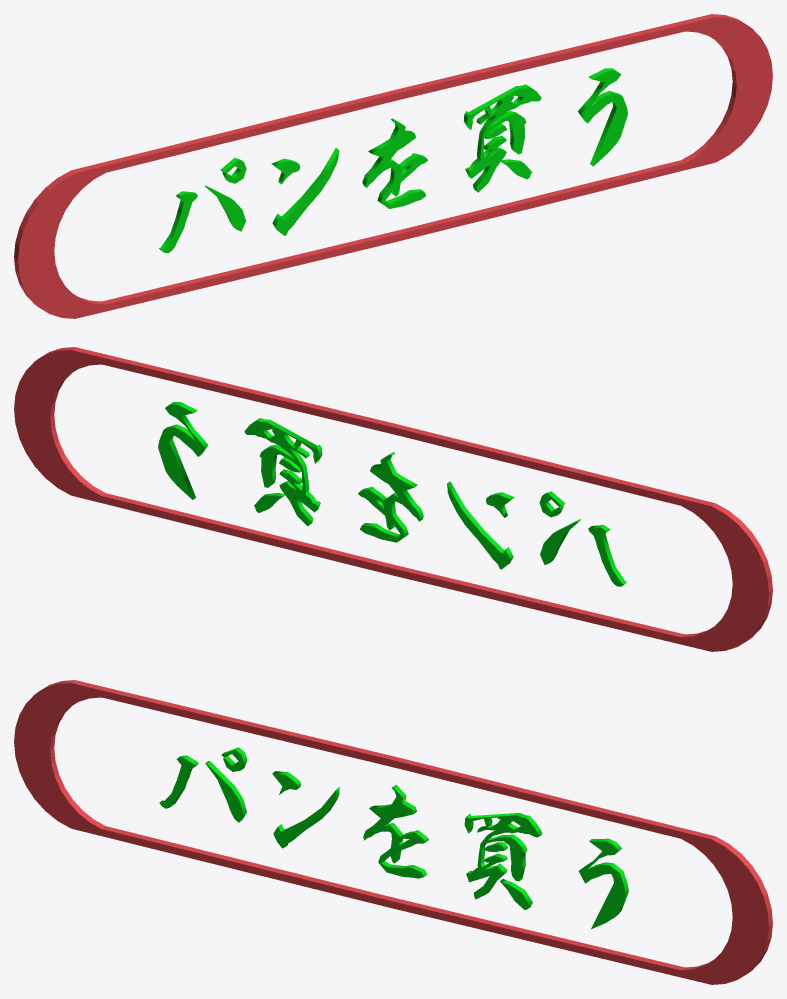
File: WallFive.fbx
3 views of the same model, one above another, from view 1: azimuth 30°, elevation 25°; view 2: azimuth 150°, elevation 25°; view 3: azimuth 330°, elevation 25° (orthographic).
Visible parts, largest first — view 1: Circle.004, Text.024; view 2: Circle.004, Text.024; view 3: Circle.004, Text.024.
Part boxes in pixels (x1=…): Circle.004: x1=14, y1=14, x2=772, y2=318; Text.024: x1=159, y1=68, x2=627, y2=253; Circle.004: x1=14, y1=347, x2=772, y2=651; Text.024: x1=158, y1=402, x2=626, y2=586; Circle.004: x1=14, y1=680, x2=772, y2=984; Text.024: x1=159, y1=747, x2=628, y2=929.
Bounding box in the file's own units: 25.44 × 4.78 × 0.2443.
